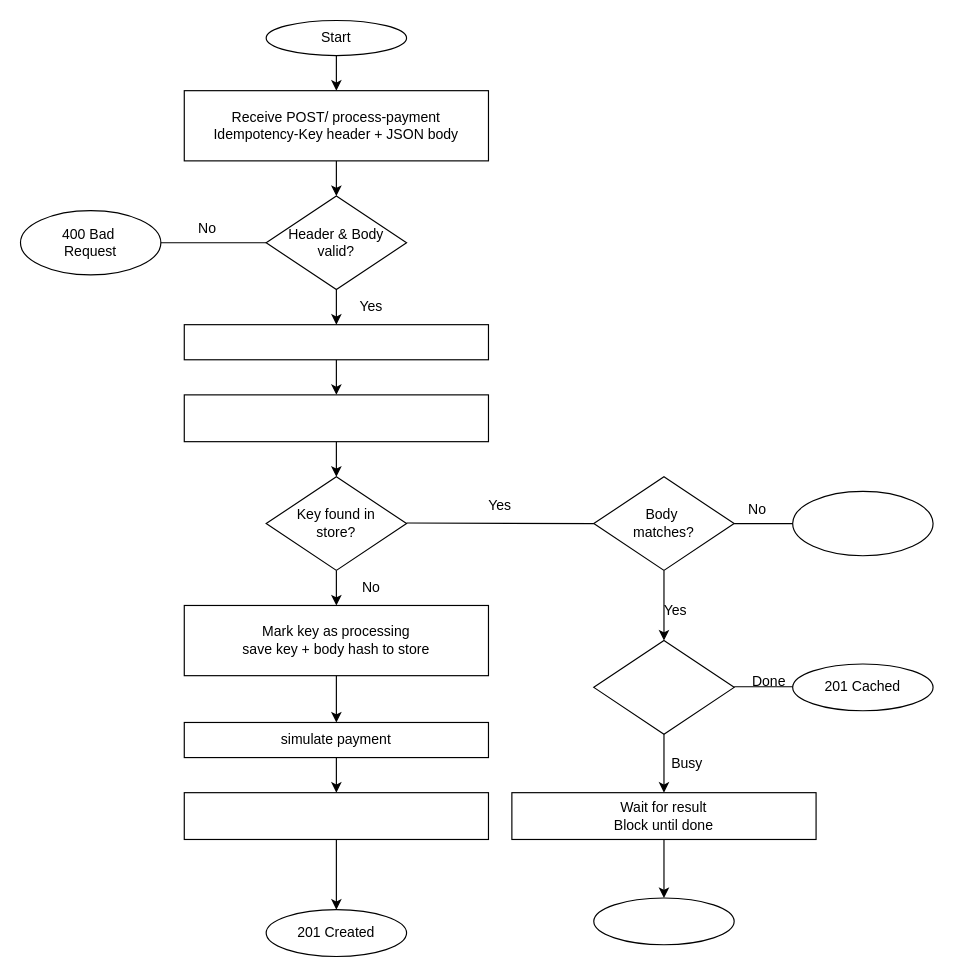
Some shapes in this 954 by 977 pixel diagram are drawn without their labels. Here are the shapes that lost their labels. From the top down, the box of each, then its label:
(183, 324, 488, 360): Hash request body
(183, 394, 488, 442): Look up key in store
(792, 490, 933, 556): 422 Error Different body
(593, 639, 734, 734): Key state
(183, 792, 488, 839): Mark key as completed
(593, 897, 734, 945): 201 Waited
